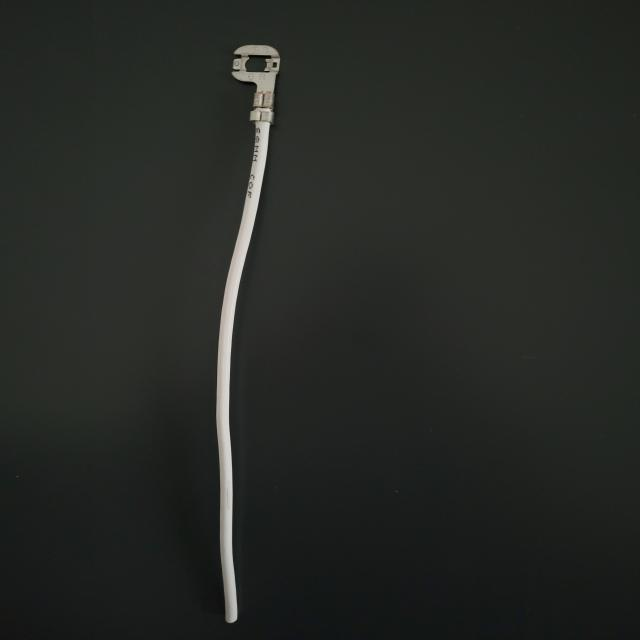good: (2, 5, 640, 636)
